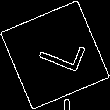L_W: (26, 31, 84, 79)
